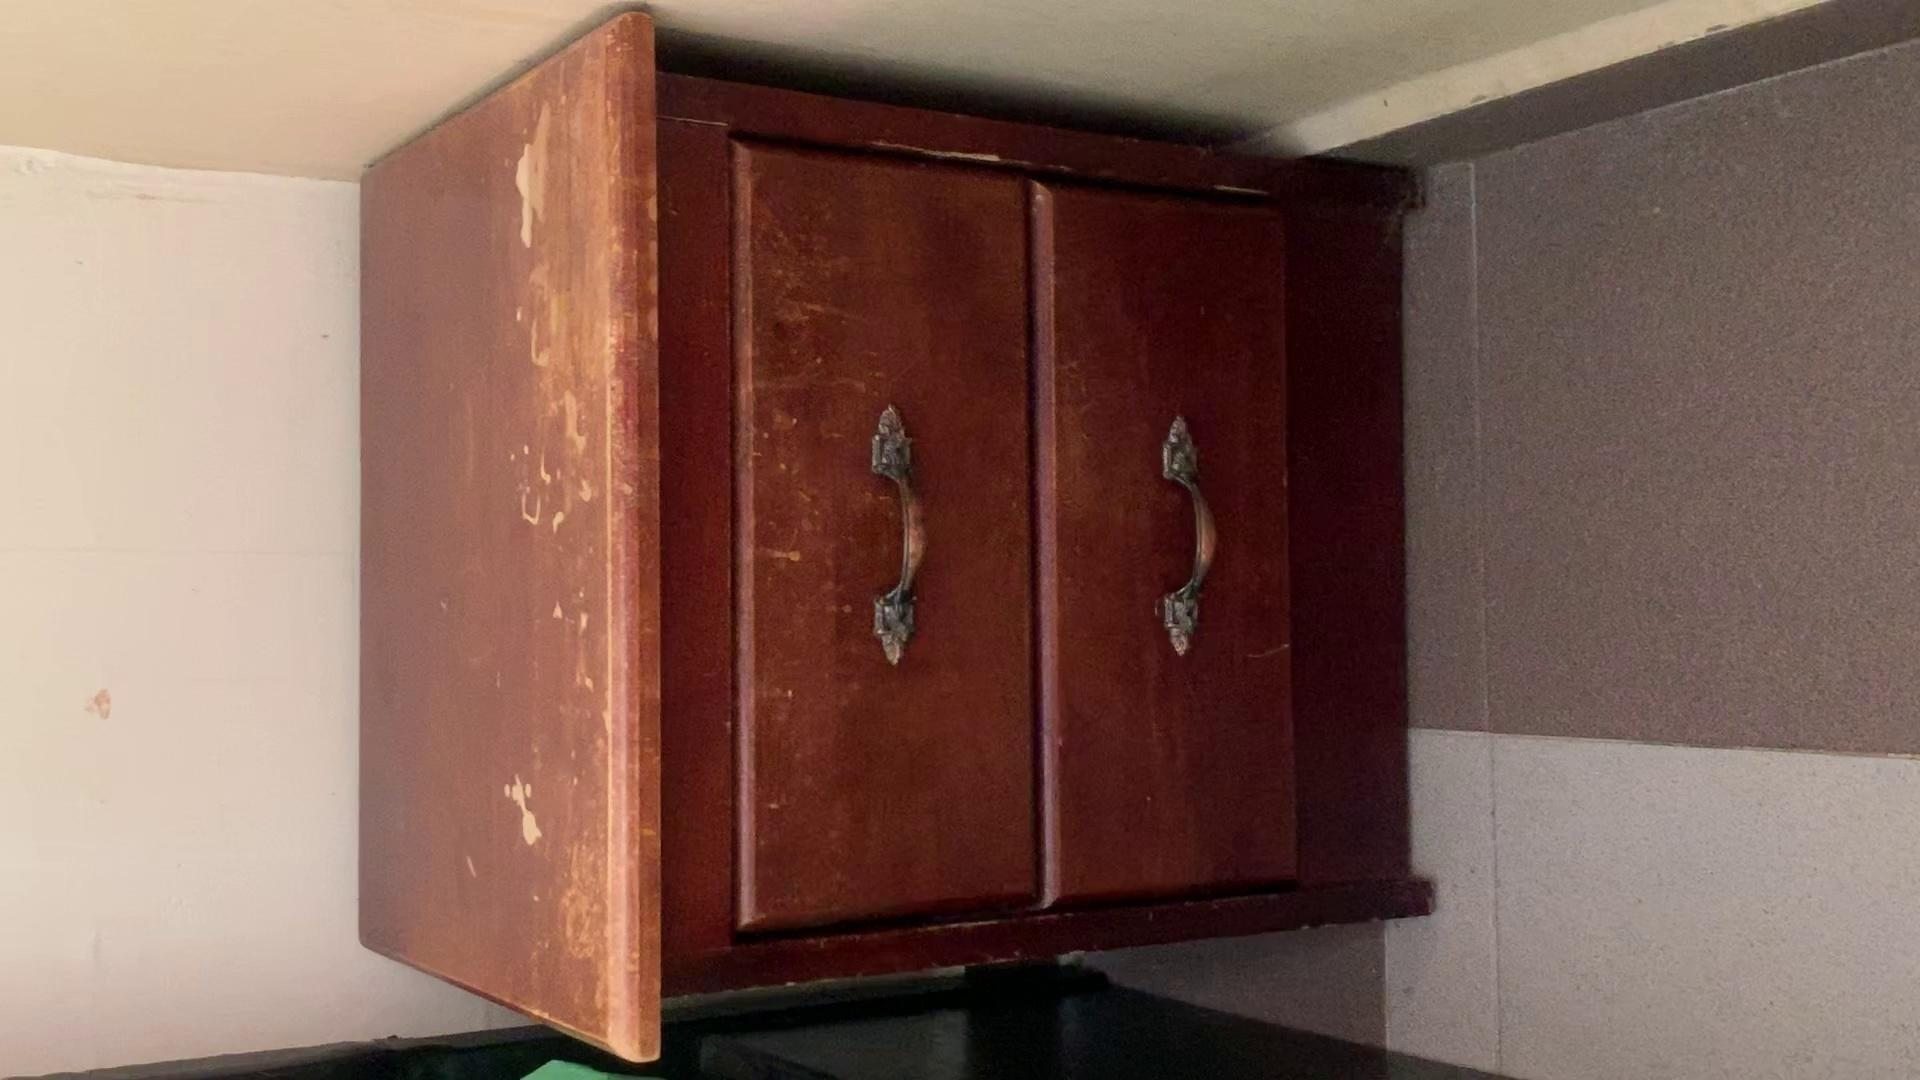cabinet_door: (712, 162, 1025, 922), (1050, 198, 1304, 898)
handle: (857, 400, 945, 676), (1151, 404, 1232, 665)
